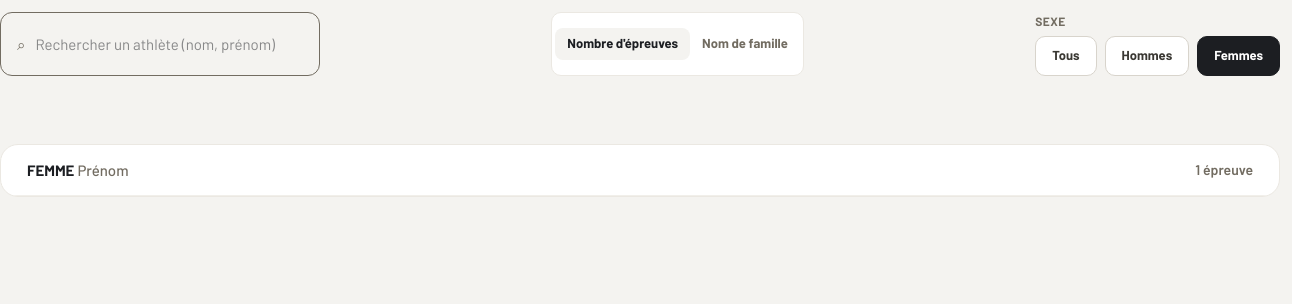
Test: AthleteSeasonList — retrouver sa ligne (#504) › sexe › names the sex filter, not only the name, when the search misses that sex
In the search field labelled "Rechercher un athlète": coordinates (169, 44) 35,32 -> 303,55, type "homme"
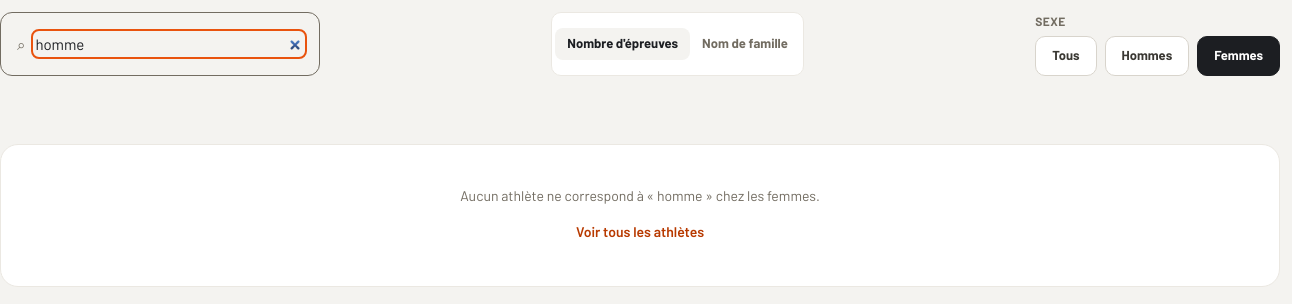
Check: the text "Aucun athlète ne correspond à « homme » chez les femmes." is shown, box 460,186 -> 820,204
